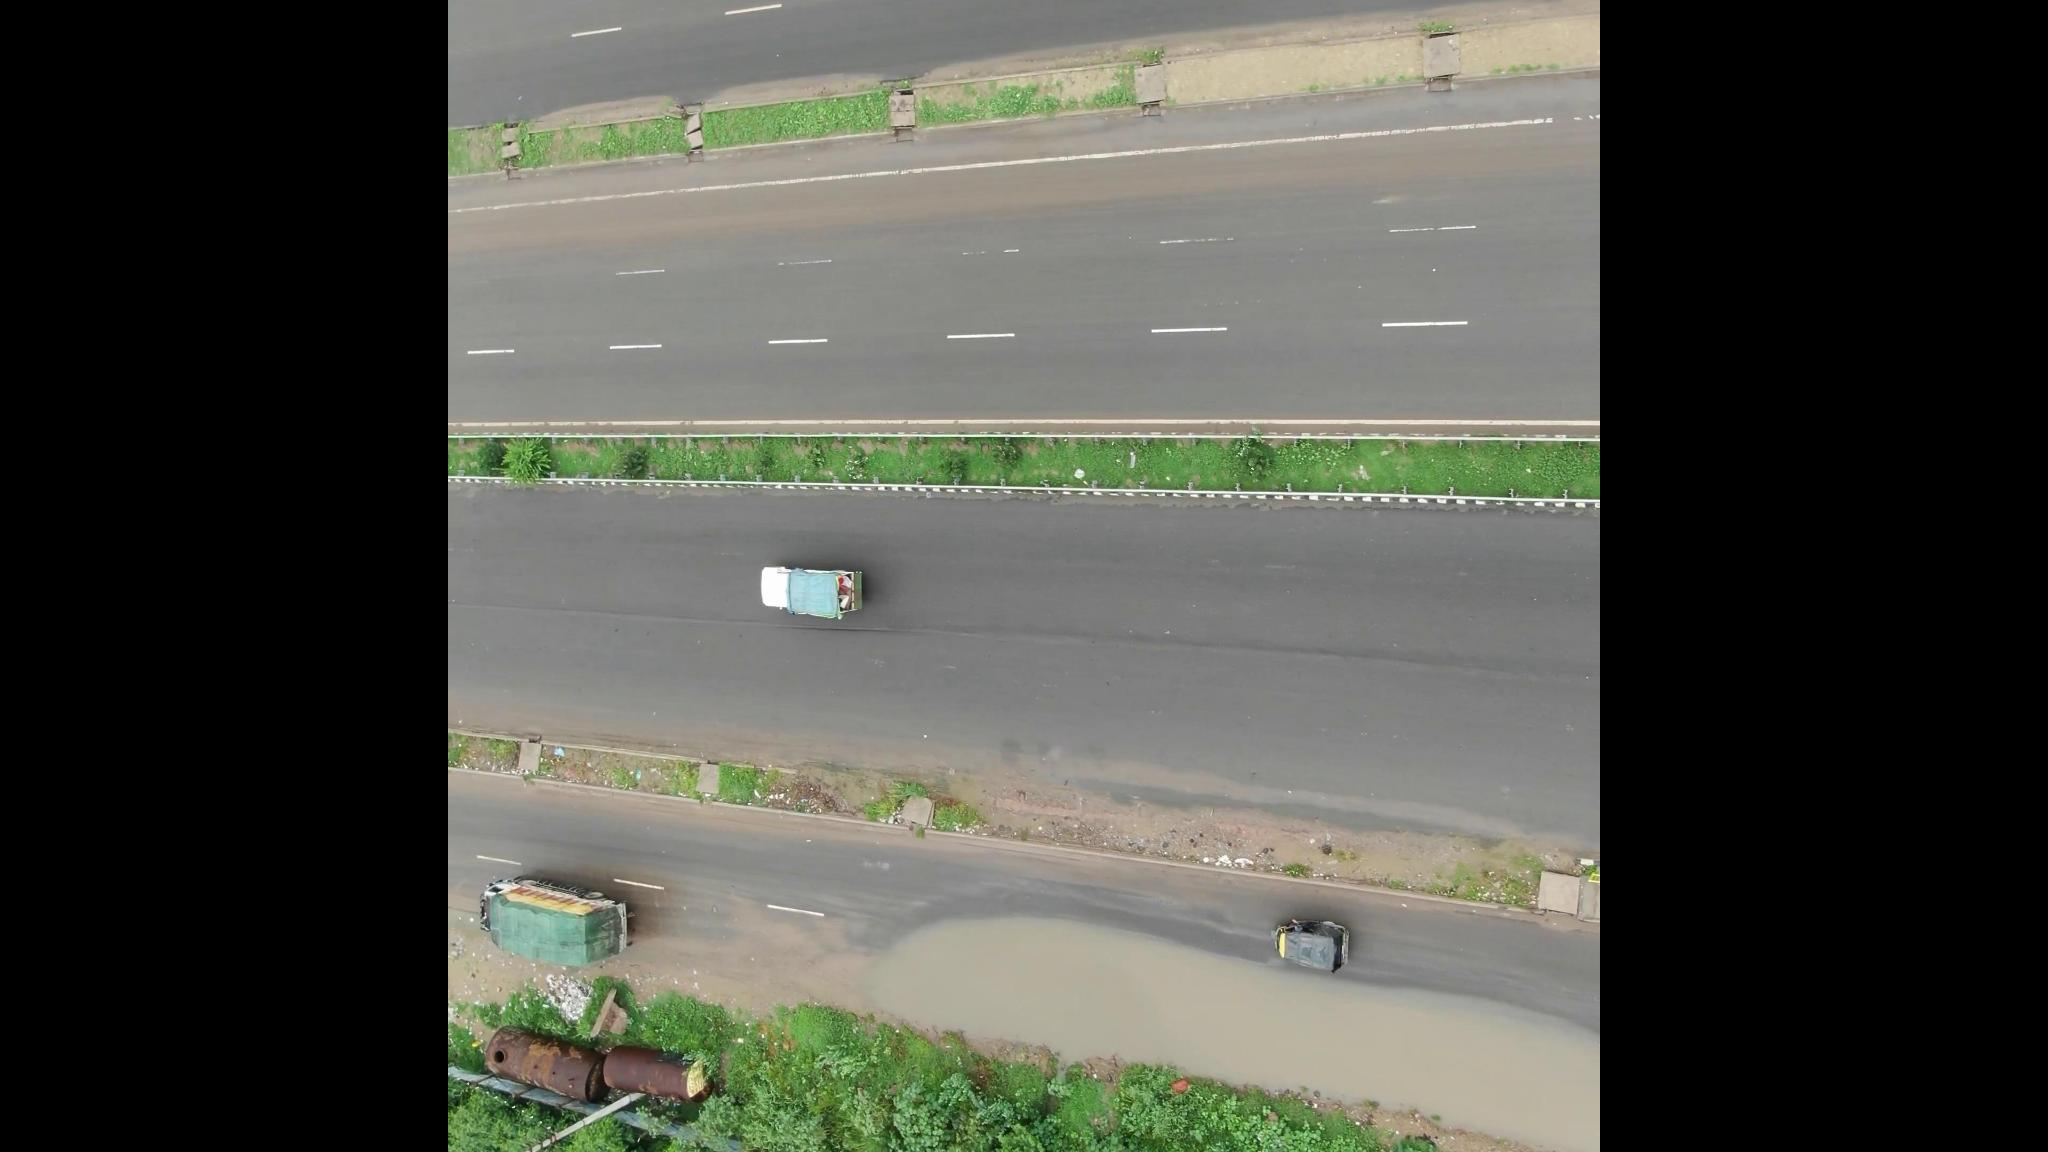Waterlogging: (850, 906, 1595, 1152)
